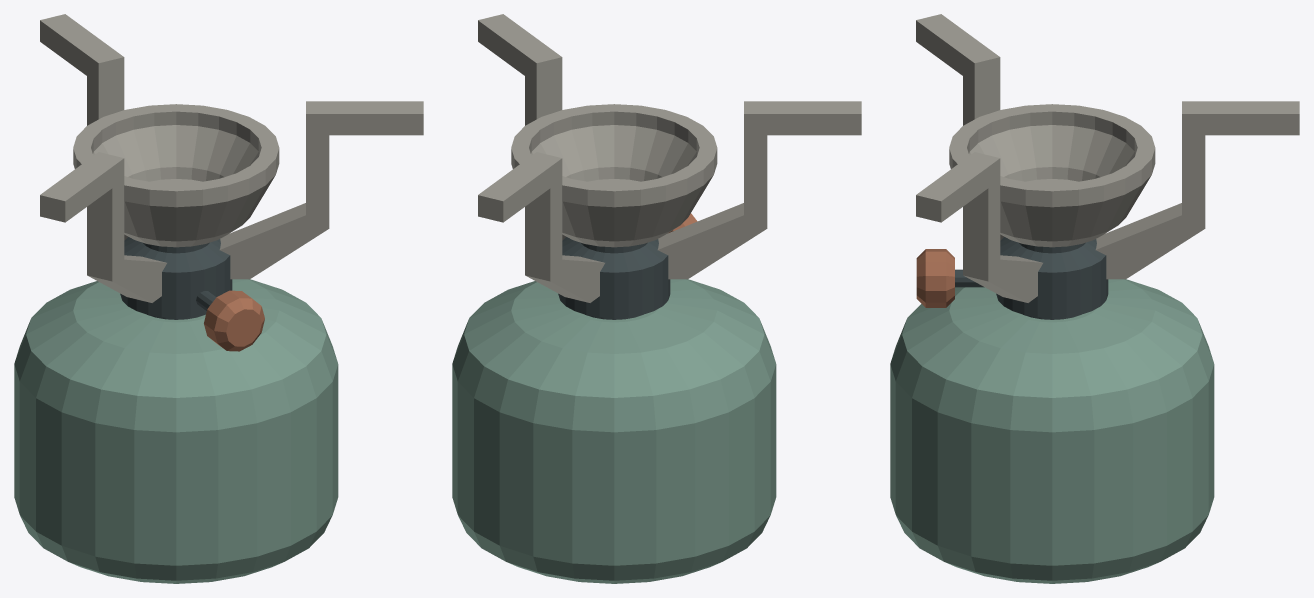
The picture shows the model from 3 angles, left to right: view 1: azimuth 30°, elevation 25°; view 2: azimuth 150°, elevation 25°; view 3: azimuth 270°, elevation 25°; orthographic projection.
Parts seen in each view (by area): view 1: Canister_FlatBottom, Burner_TrueConcaveCup, Arm_3_RaisedSupport, Arm_2_RaisedSupport, Neck_SeatedCollar, Arm_1_RaisedSupport, Control_FacetedKnob; view 2: Canister_FlatBottom, Burner_TrueConcaveCup, Arm_2_RaisedSupport, Arm_1_RaisedSupport, Neck_SeatedCollar, Arm_3_RaisedSupport; view 3: Canister_FlatBottom, Burner_TrueConcaveCup, Arm_1_RaisedSupport, Arm_3_RaisedSupport, Neck_SeatedCollar, Arm_2_RaisedSupport, Control_FacetedKnob.
Boxes of the visible parts, x1,y1,x2,y2 form: Canister_FlatBottom: (14, 279, 338, 583); Burner_TrueConcaveCup: (73, 104, 279, 247); Arm_3_RaisedSupport: (219, 101, 423, 279); Arm_2_RaisedSupport: (40, 152, 166, 302); Neck_SeatedCollar: (120, 237, 232, 319); Arm_1_RaisedSupport: (40, 14, 128, 240); Control_FacetedKnob: (204, 290, 264, 351); Canister_FlatBottom: (452, 279, 776, 583); Burner_TrueConcaveCup: (511, 104, 717, 247); Arm_2_RaisedSupport: (657, 101, 861, 279); Arm_1_RaisedSupport: (478, 152, 604, 302); Neck_SeatedCollar: (558, 237, 670, 319); Arm_3_RaisedSupport: (478, 14, 566, 240); Canister_FlatBottom: (890, 279, 1214, 583); Burner_TrueConcaveCup: (949, 104, 1155, 247); Arm_1_RaisedSupport: (1095, 101, 1299, 279); Arm_3_RaisedSupport: (916, 152, 1042, 302); Neck_SeatedCollar: (996, 237, 1108, 319); Arm_2_RaisedSupport: (916, 14, 1004, 240); Control_FacetedKnob: (916, 249, 954, 307).
Size of the model in its own units: 0.1505 by 0.157 by 0.139.
